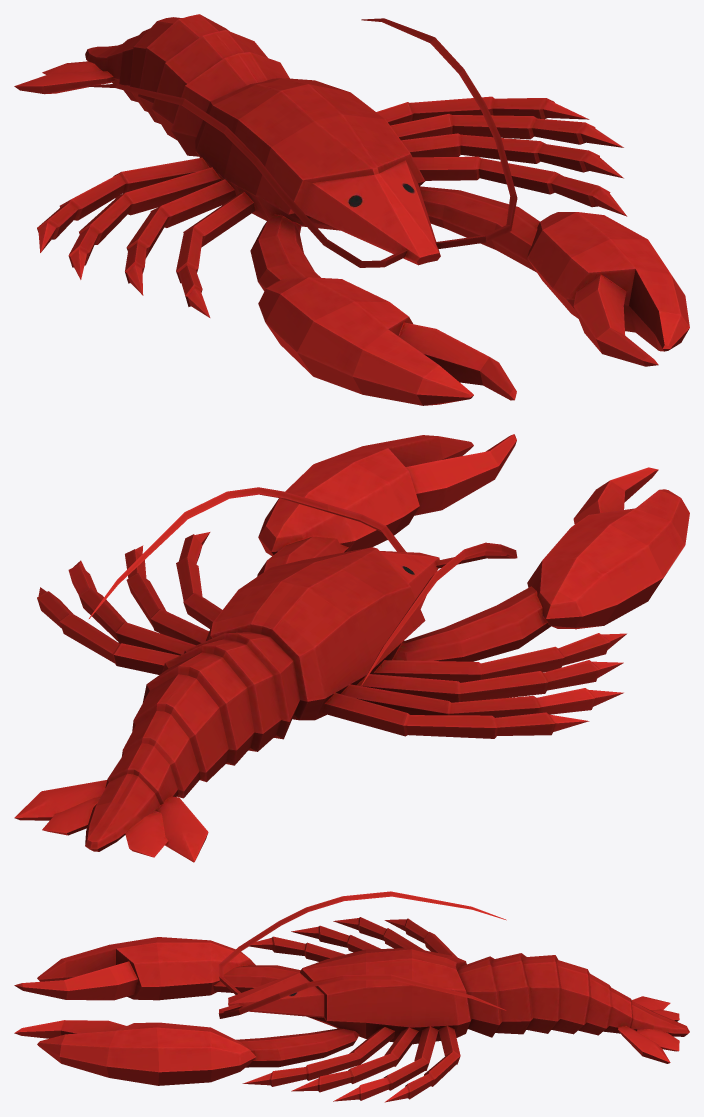
File: lobster.glb
The picture shows the model from 3 angles, top to bottom: view 1: azimuth 30°, elevation 25°; view 2: azimuth 150°, elevation 25°; view 3: azimuth 270°, elevation 25°; orthographic projection. The views are drawn at different scales.
Parts seen in each view (by area): view 1: Lobster_mesh; view 2: Lobster_mesh; view 3: Lobster_mesh.
Boxes of the visible parts, x1,y1,x2,y2 form: Lobster_mesh: (14,14,689,405); Lobster_mesh: (14,434,689,862); Lobster_mesh: (14,891,689,1102).
Bounding box in the file's own units: 4.19 × 1.12 × 6.55.
Materials: 1 (1 with a texture image).
